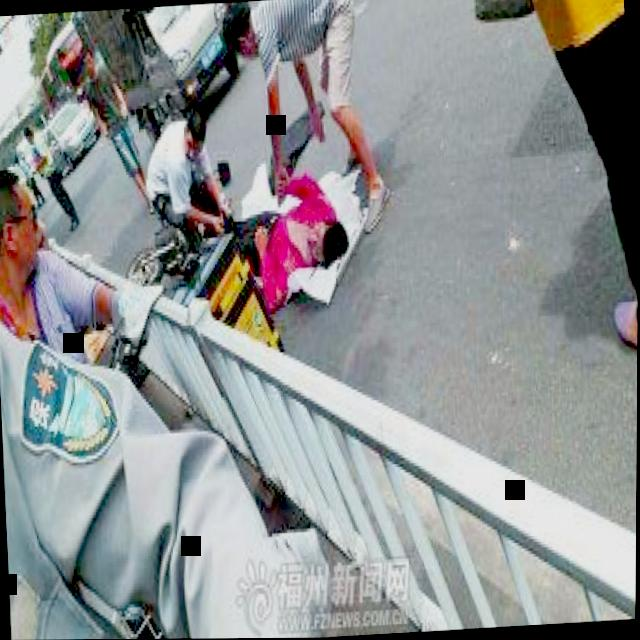Fall-Detected: (185, 156, 363, 326)
